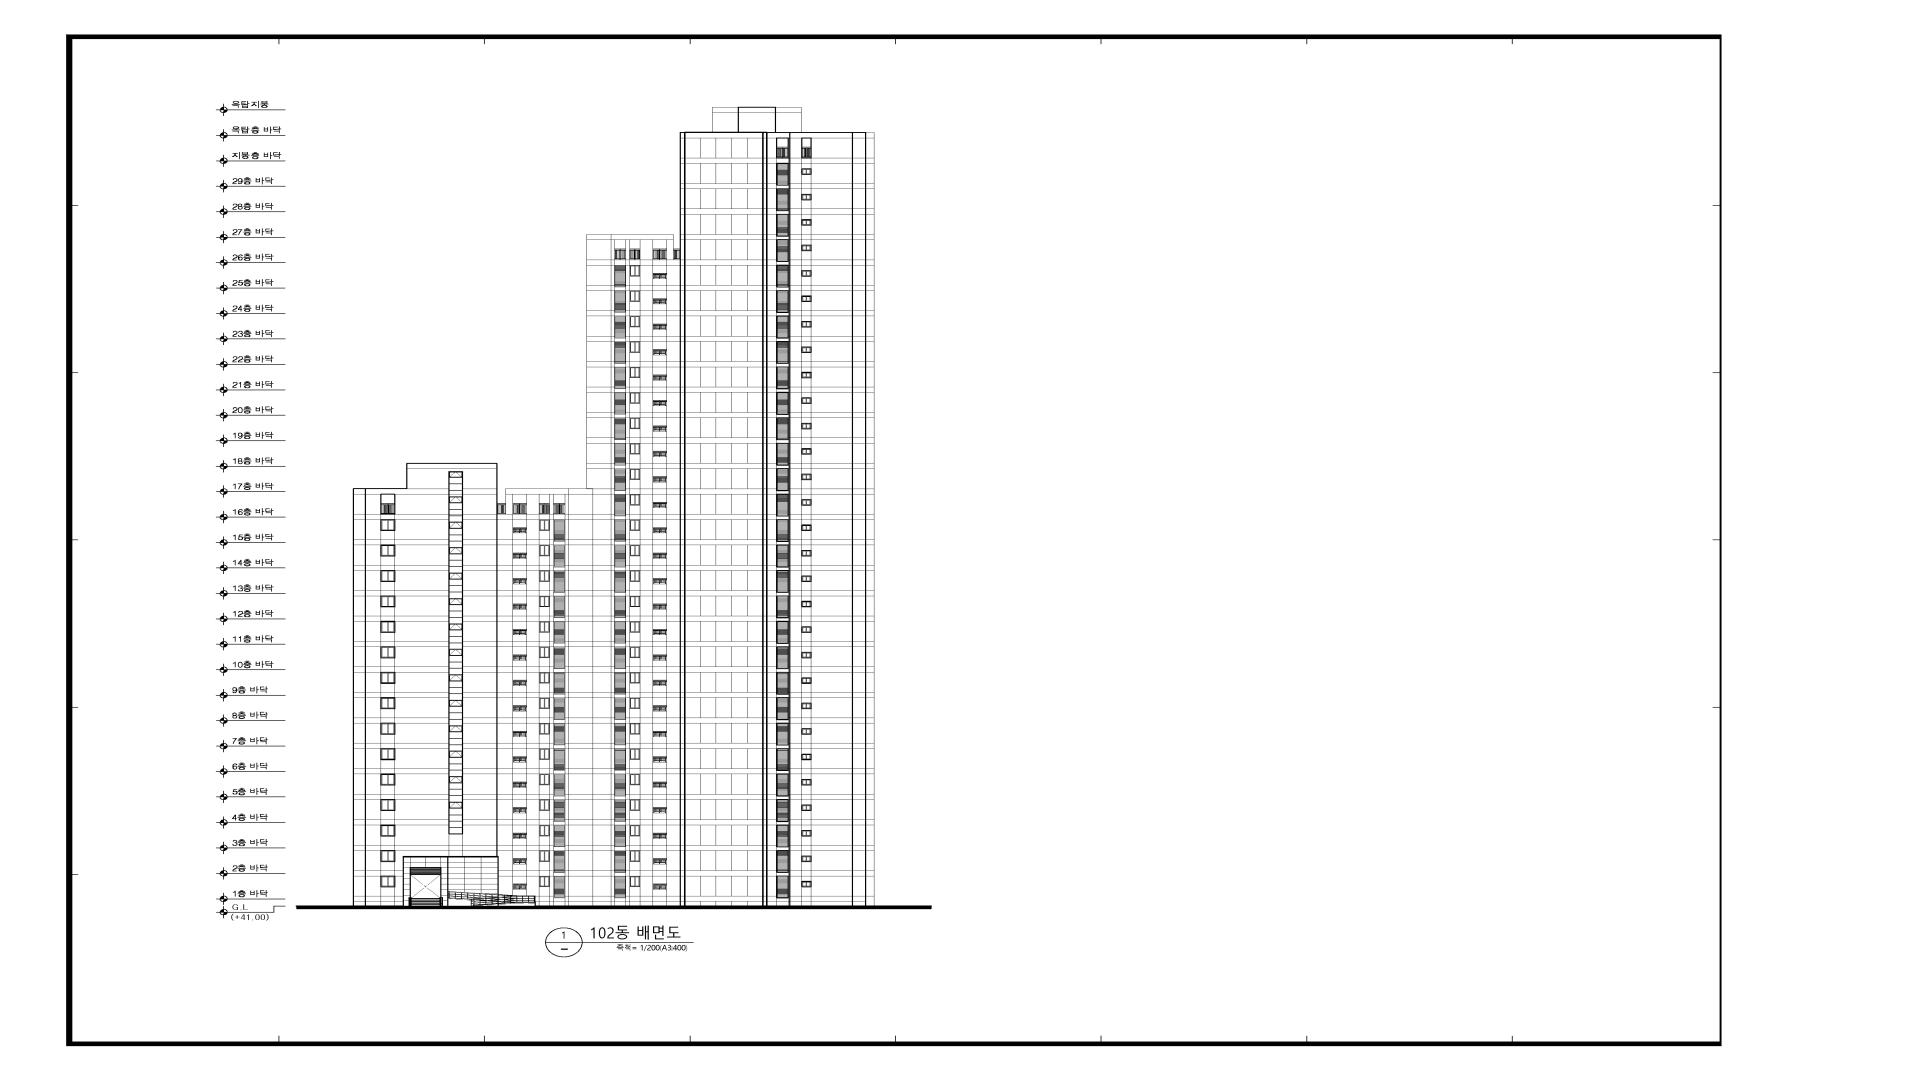door: (410, 874, 442, 906)
wall: (353, 107, 874, 910)
window: (448, 802, 463, 835), (448, 522, 463, 549), (448, 649, 463, 675), (448, 675, 463, 702), (448, 750, 463, 777), (448, 471, 463, 497), (448, 497, 463, 522), (448, 549, 463, 574), (448, 599, 463, 624), (448, 624, 463, 649), (448, 777, 463, 802), (448, 725, 463, 750), (448, 702, 463, 725), (448, 574, 463, 597), (380, 493, 396, 514), (775, 824, 789, 848), (775, 239, 789, 262), (775, 671, 789, 695), (775, 696, 789, 720), (775, 723, 789, 745), (775, 799, 789, 822), (775, 851, 789, 873), (775, 876, 789, 898), (553, 545, 566, 567), (553, 621, 566, 644), (553, 673, 566, 695), (553, 698, 566, 720), (553, 723, 566, 745), (553, 774, 566, 796), (553, 799, 566, 822), (553, 851, 566, 873), (775, 214, 789, 236), (775, 265, 789, 287), (775, 290, 789, 313), (775, 315, 789, 338), (775, 342, 789, 364), (775, 367, 789, 389), (775, 443, 789, 465), (775, 468, 789, 491), (775, 495, 789, 517), (775, 570, 789, 592), (775, 621, 789, 644), (513, 495, 527, 514), (653, 240, 667, 260), (777, 773, 789, 796), (777, 595, 789, 618), (553, 749, 566, 770), (553, 825, 566, 847), (777, 748, 789, 770), (554, 520, 566, 542), (615, 265, 626, 287), (777, 164, 789, 186), (615, 621, 626, 644), (615, 646, 626, 669), (615, 673, 626, 695), (615, 698, 626, 720), (615, 723, 626, 745), (615, 774, 626, 796), (615, 799, 626, 822), (615, 851, 626, 873), (615, 876, 626, 898), (554, 596, 566, 618), (554, 646, 566, 669), (554, 876, 566, 898), (777, 189, 789, 211), (777, 392, 789, 414), (777, 418, 789, 440), (777, 520, 789, 542), (777, 545, 789, 567), (777, 646, 789, 669), (615, 290, 626, 313), (615, 342, 626, 364), (615, 367, 626, 389), (615, 392, 626, 414), (615, 443, 626, 465), (615, 468, 626, 491), (615, 520, 626, 542), (615, 545, 626, 567), (615, 596, 626, 618), (553, 495, 566, 514), (777, 137, 789, 158), (615, 749, 626, 770), (615, 825, 626, 847), (554, 571, 566, 592), (615, 316, 626, 338), (615, 418, 626, 439), (615, 495, 626, 516), (615, 571, 626, 592), (615, 240, 626, 260), (629, 240, 641, 260), (802, 137, 812, 158), (539, 495, 550, 514), (380, 545, 396, 556), (380, 570, 396, 582), (380, 596, 396, 608), (380, 520, 396, 531), (380, 621, 396, 633), (380, 646, 396, 658), (380, 671, 396, 683), (380, 698, 396, 709), (380, 749, 396, 761), (380, 774, 396, 786), (380, 824, 396, 836), (380, 851, 396, 862), (381, 723, 396, 735), (381, 799, 396, 811), (381, 876, 396, 887), (629, 315, 641, 327), (629, 392, 641, 404), (629, 545, 641, 556), (629, 621, 641, 633), (629, 698, 641, 709), (629, 290, 640, 302), (629, 367, 640, 378), (539, 799, 550, 811), (539, 876, 550, 887), (629, 265, 640, 277), (539, 545, 550, 556), (539, 646, 550, 658), (539, 723, 550, 735), (629, 418, 641, 429), (629, 443, 640, 455), (629, 468, 640, 480), (629, 495, 641, 505), (629, 520, 640, 531), (629, 570, 640, 582), (629, 647, 641, 658), (629, 723, 640, 735), (629, 749, 641, 760), (629, 774, 641, 785), (629, 799, 640, 811), (629, 824, 640, 836), (629, 876, 640, 887), (630, 342, 641, 352), (539, 774, 550, 785), (539, 825, 550, 836), (539, 851, 550, 861), (539, 520, 550, 530), (539, 571, 550, 582), (539, 596, 550, 607), (539, 621, 550, 632), (539, 673, 550, 683), (539, 698, 550, 708), (539, 749, 550, 760), (629, 596, 640, 607), (629, 673, 640, 683), (629, 851, 640, 861), (653, 298, 667, 305), (653, 323, 667, 330), (653, 400, 667, 406), (653, 476, 667, 483), (653, 679, 667, 686), (653, 731, 667, 737), (653, 807, 667, 814), (653, 832, 667, 839), (653, 884, 667, 890), (513, 731, 527, 737), (513, 756, 527, 762), (513, 807, 527, 814), (513, 553, 526, 559), (653, 349, 667, 355), (653, 375, 667, 380), (653, 426, 667, 431), (653, 451, 667, 456), (653, 502, 667, 508), (653, 527, 667, 533), (653, 553, 667, 558), (653, 579, 667, 584), (653, 604, 667, 609), (653, 629, 667, 634), (653, 655, 667, 661), (653, 705, 667, 711), (653, 757, 667, 762), (653, 782, 667, 787), (653, 858, 667, 864), (513, 629, 527, 634), (513, 655, 527, 661), (513, 680, 527, 686), (513, 705, 527, 711), (513, 833, 527, 839), (513, 858, 527, 864), (513, 527, 527, 533), (653, 273, 667, 278), (800, 500, 811, 506), (513, 579, 526, 584), (513, 604, 526, 609), (513, 782, 526, 787), (513, 884, 526, 889), (802, 194, 812, 200), (802, 219, 812, 225), (802, 270, 812, 277), (802, 295, 812, 302), (802, 320, 812, 327), (802, 347, 812, 353), (802, 372, 812, 378), (800, 397, 811, 404), (802, 423, 812, 430), (800, 448, 811, 455), (802, 473, 812, 480), (800, 525, 811, 531), (800, 550, 811, 556), (800, 575, 811, 582), (802, 600, 812, 607), (802, 626, 812, 633), (800, 651, 811, 658), (802, 703, 812, 709), (800, 728, 811, 735), (800, 779, 811, 786), (800, 804, 811, 811), (802, 829, 812, 836), (802, 856, 812, 862), (800, 881, 811, 887), (802, 169, 811, 175), (802, 245, 812, 251), (802, 678, 812, 683), (802, 754, 812, 760)
